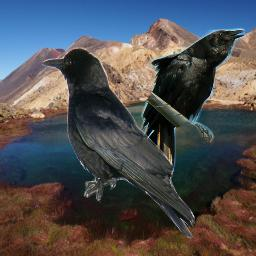Crow: (40, 47, 195, 239), (131, 28, 245, 181)
